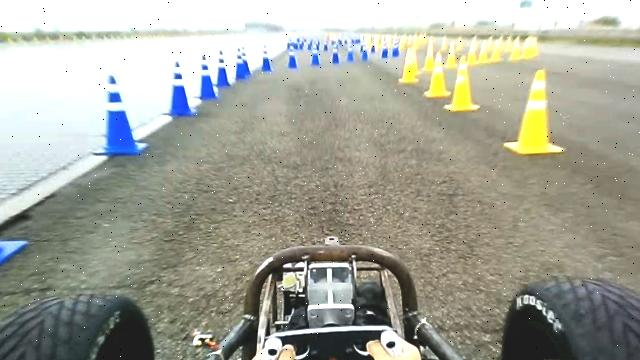blue cone: (90, 73, 148, 156), (166, 60, 196, 117), (197, 53, 219, 100), (214, 48, 233, 88), (232, 47, 247, 81), (284, 42, 302, 70), (261, 43, 274, 74), (240, 45, 253, 76)
yellow cone: (503, 68, 565, 155), (444, 59, 479, 112), (423, 51, 450, 98), (398, 46, 420, 84)
